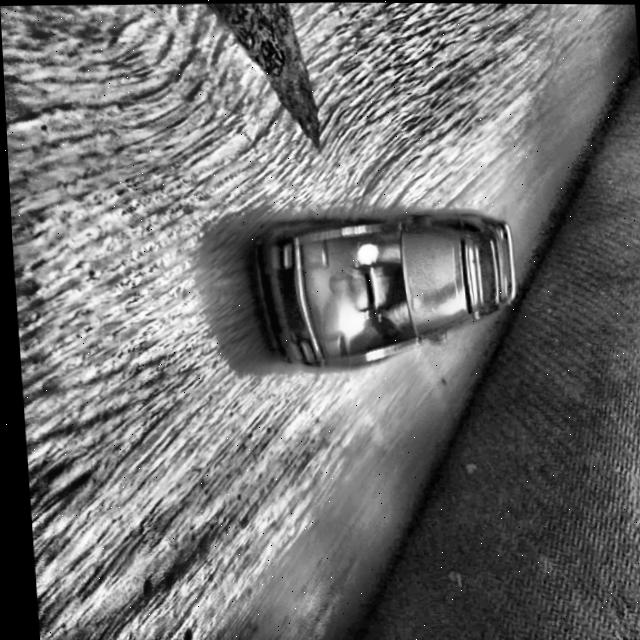car: (243, 208, 519, 370)
